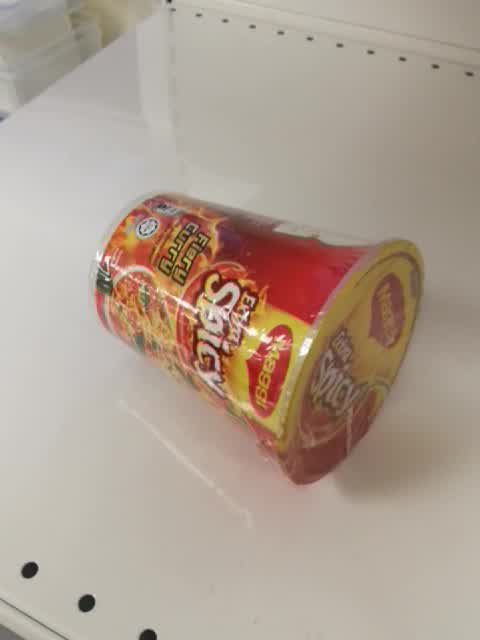maggi: (88, 189, 424, 487)
